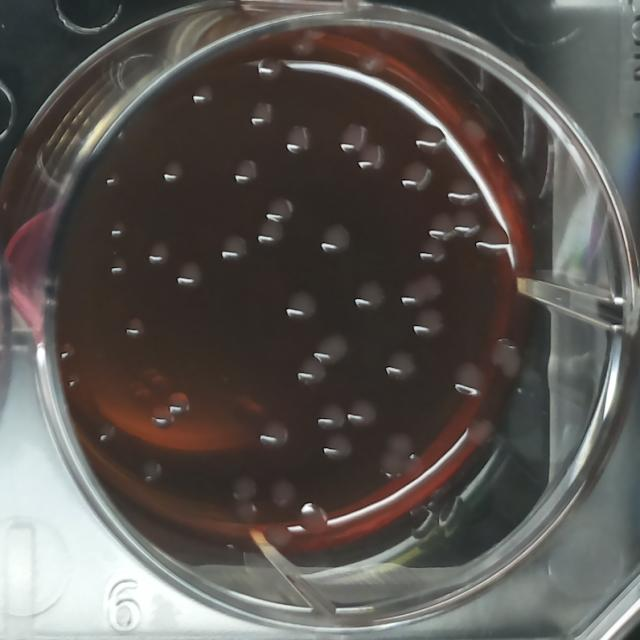Vibrio: (311, 328, 351, 369), (316, 220, 355, 261), (381, 346, 420, 387), (472, 220, 509, 263), (411, 122, 450, 162), (351, 275, 389, 316), (444, 170, 482, 210), (282, 286, 321, 324), (256, 417, 294, 455), (319, 429, 355, 466), (293, 356, 329, 392), (314, 397, 348, 434), (217, 232, 251, 268), (172, 257, 204, 293), (158, 156, 190, 190), (264, 193, 296, 226), (227, 470, 258, 504), (255, 216, 287, 248), (255, 52, 286, 85), (231, 156, 260, 189), (147, 402, 176, 435), (188, 80, 217, 113), (145, 239, 172, 271), (165, 389, 191, 421), (106, 253, 130, 281), (122, 314, 146, 341), (106, 216, 129, 240), (101, 165, 123, 188)
